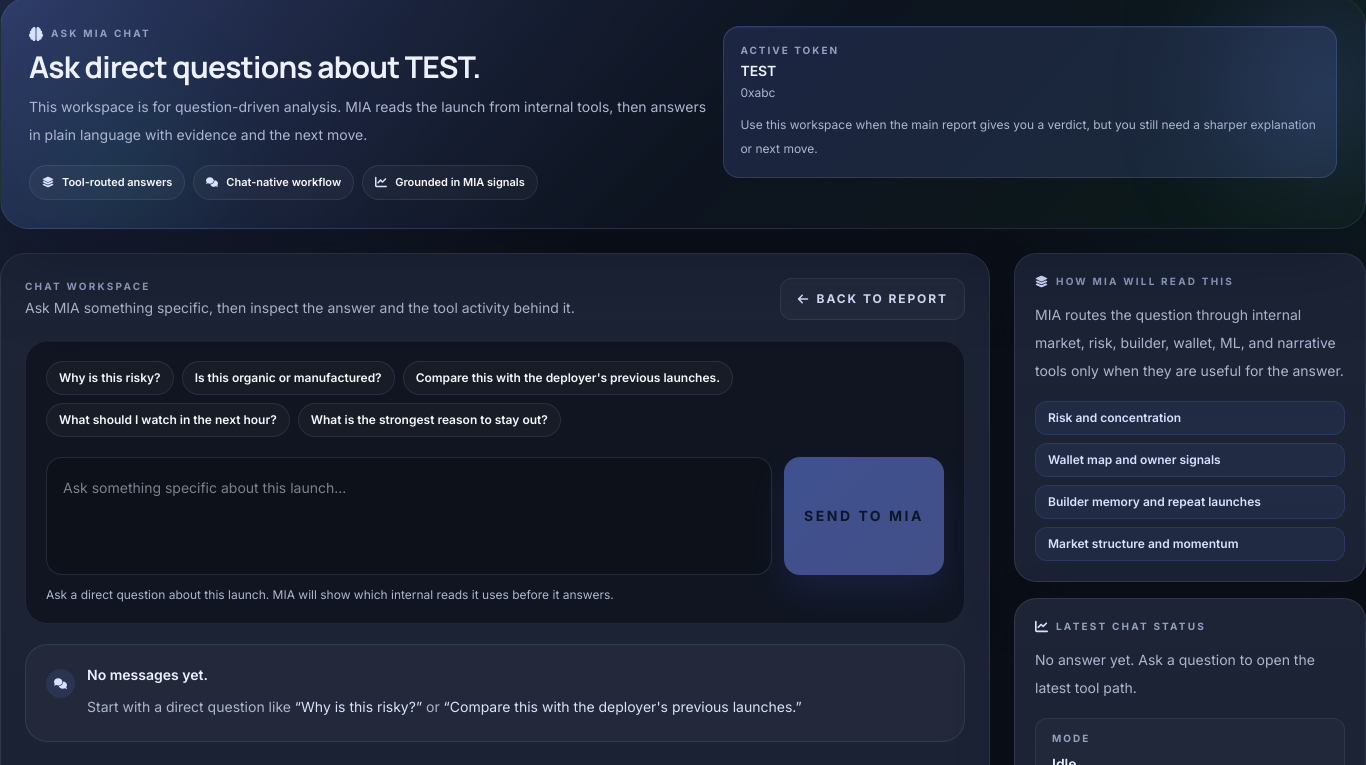
Scenario: AskMiaChat › submits a preset question and renders the structured answer with tool activity
Click the button "Why is this risky?" at (110, 378), box left=46, top=360, right=174, bottom=394
(page scrolled)
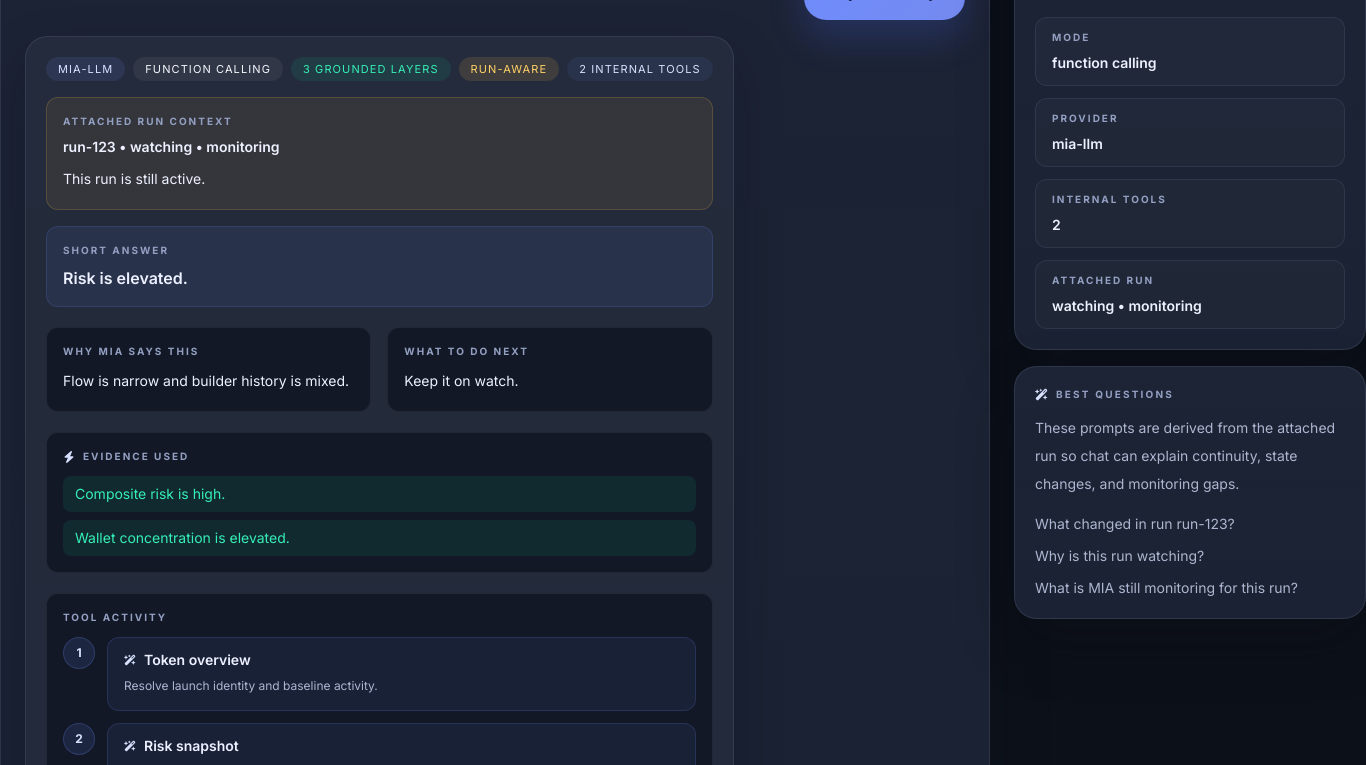
Expected: the text "Risk is elevated." is shown, left=63, top=268, right=188, bottom=288
Expected: the text "Attached run context" is shown, left=63, top=115, right=233, bottom=127
Expected: the text "run-aware" is shown, left=459, top=57, right=559, bottom=81
